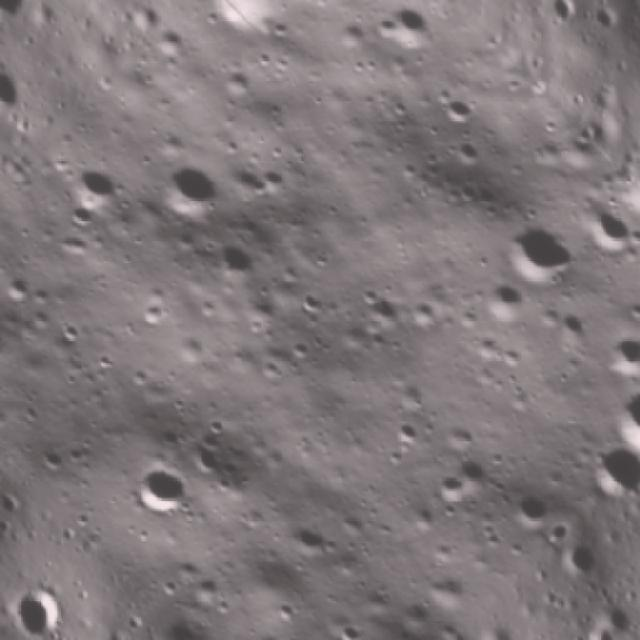crater: (487, 193, 601, 307), (110, 437, 208, 535), (416, 434, 510, 526), (145, 147, 232, 235), (464, 264, 542, 342), (364, 0, 450, 69), (574, 183, 640, 272), (564, 419, 640, 496), (196, 0, 322, 46), (57, 143, 131, 217), (496, 471, 569, 543), (192, 217, 265, 289), (307, 598, 411, 640), (598, 364, 640, 456), (154, 592, 221, 640), (237, 611, 318, 640)
